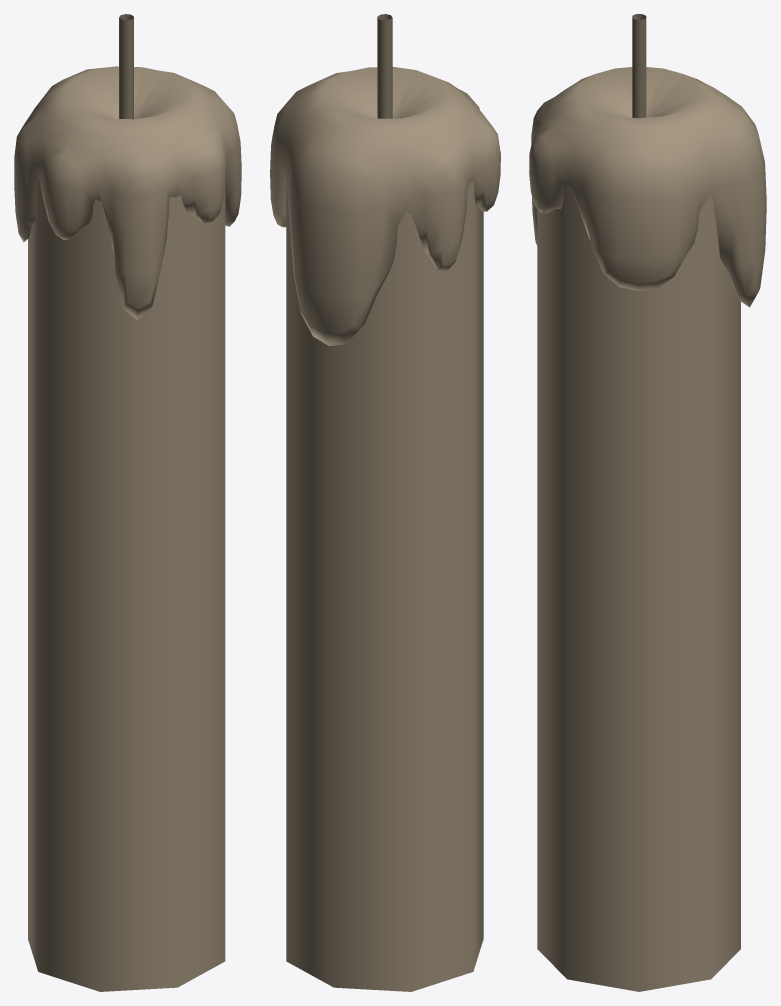
The model's file is VelaGrande.fbx.
The picture shows the model from 3 angles, left to right: view 1: azimuth 30°, elevation 25°; view 2: azimuth 150°, elevation 25°; view 3: azimuth 270°, elevation 25°; orthographic projection.
Visible parts, largest first — view 1: Vela.G, Pavio.G; view 2: Vela.G, Pavio.G; view 3: Vela.G, Pavio.G.
Part boxes in pixels (bbox=[...]): Vela.G: bbox=[14, 66, 241, 991]; Pavio.G: bbox=[119, 14, 133, 119]; Vela.G: bbox=[270, 67, 500, 991]; Pavio.G: bbox=[377, 14, 392, 118]; Vela.G: bbox=[529, 67, 766, 991]; Pavio.G: bbox=[632, 14, 646, 118].
Bounding box in the file's own units: 7.99 × 35.5 × 8.21.
